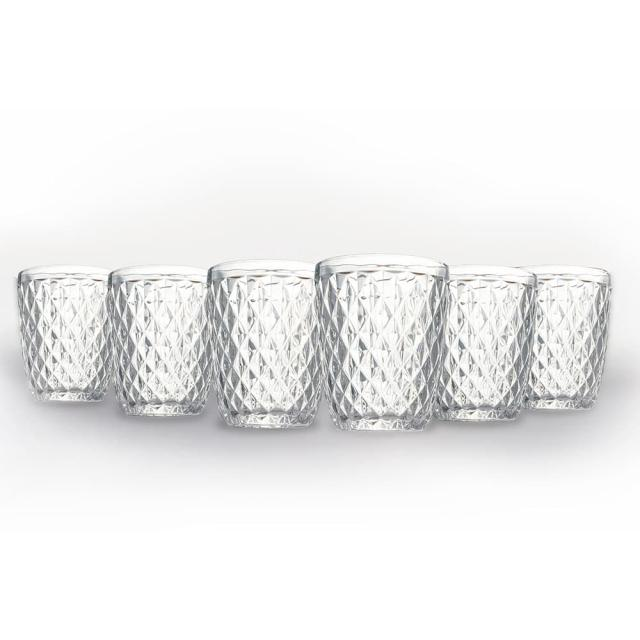glass: (15, 238, 621, 465), (314, 252, 454, 438), (204, 252, 323, 424), (102, 257, 216, 429), (438, 249, 540, 434), (9, 248, 113, 421), (525, 248, 617, 414)
